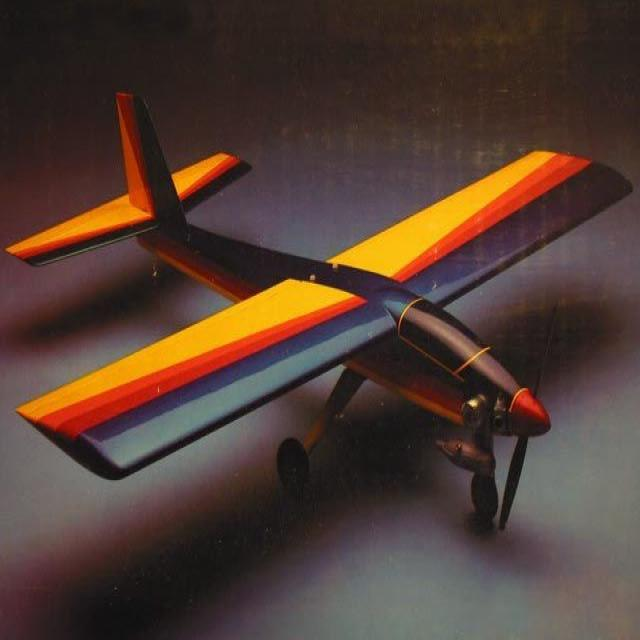iha: (6, 87, 635, 539)
